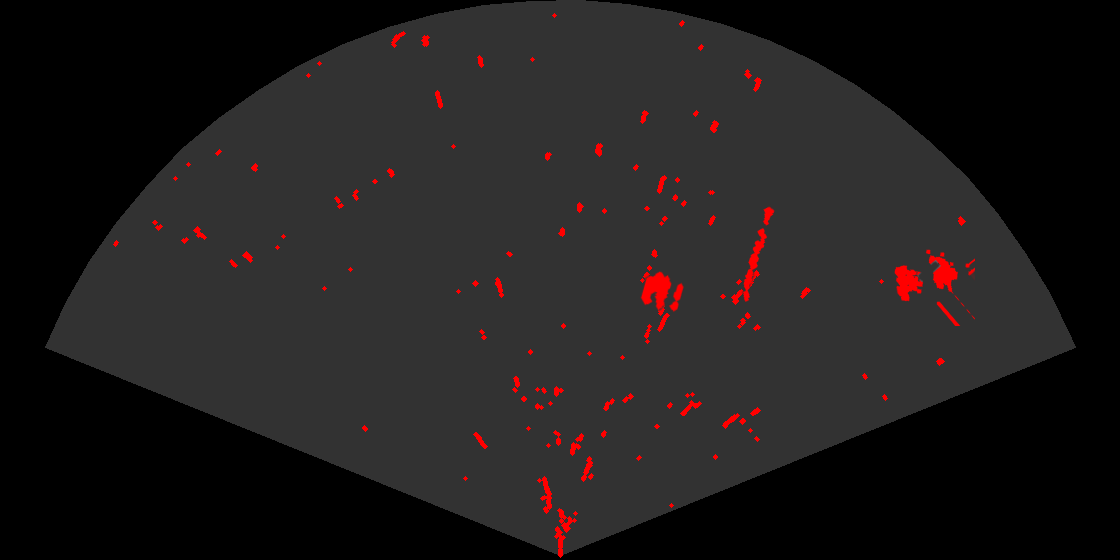ball: (639, 270, 685, 314)
cage: (893, 248, 975, 326)
chain: (741, 204, 776, 303)
